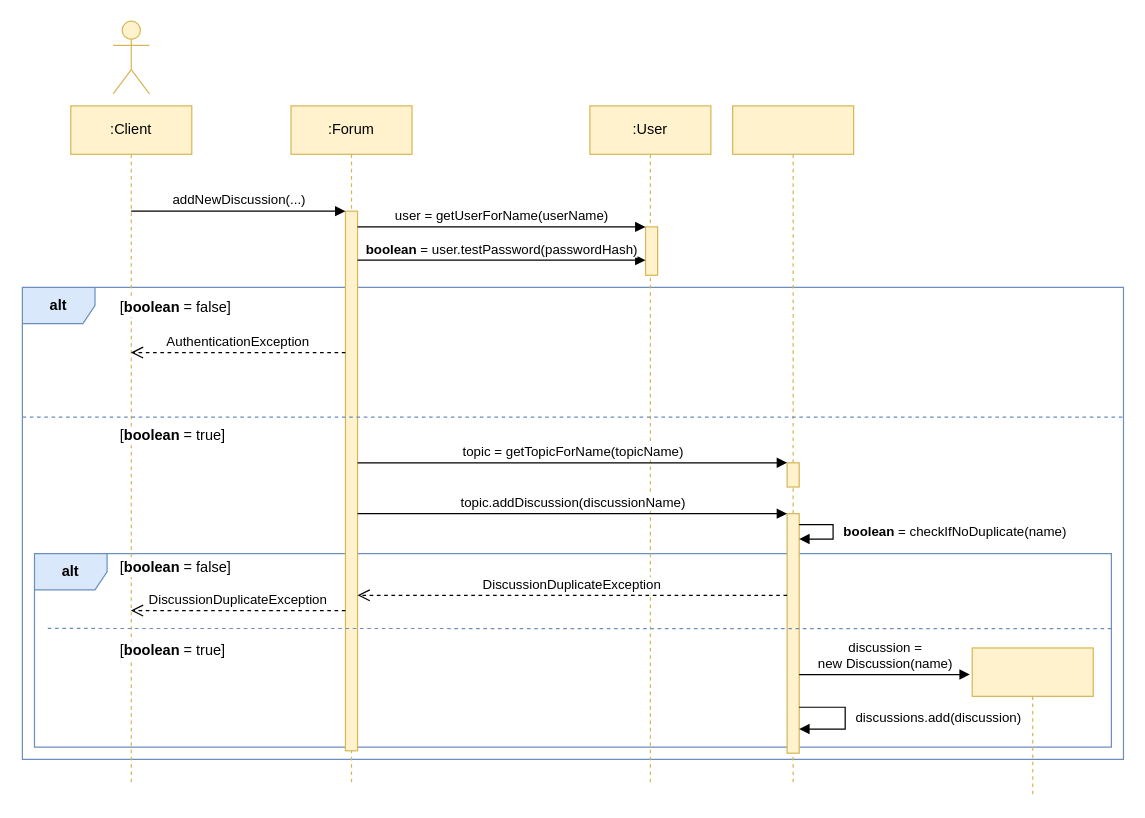
Some shapes in this 1145 by 818 pixel diagram are drawn without their labels. Here are the shapes that lost their labels. From the top down, the centre of each, then its label:
At (x=792, y=444): ":Topic".
At (x=1032, y=722): ":Discussion".
